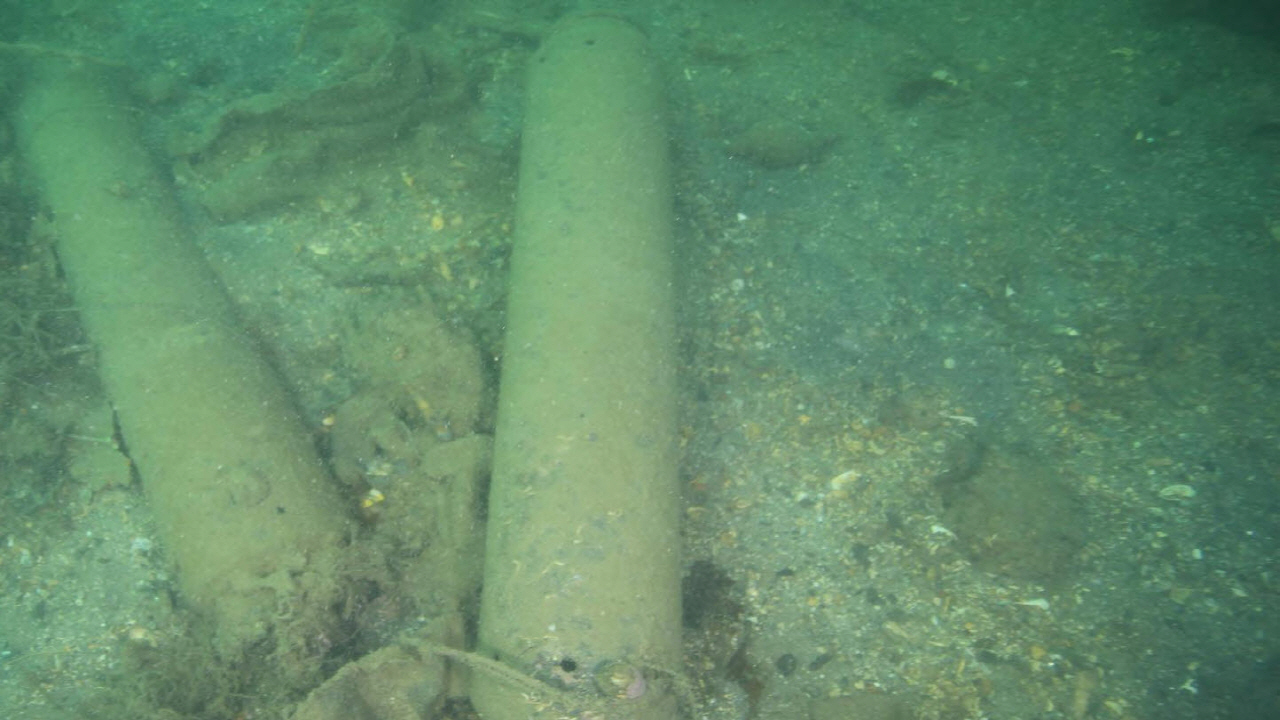bundle of ropes: (389, 629, 575, 697)
eel fish trap: (7, 51, 362, 658), (465, 6, 687, 720)
